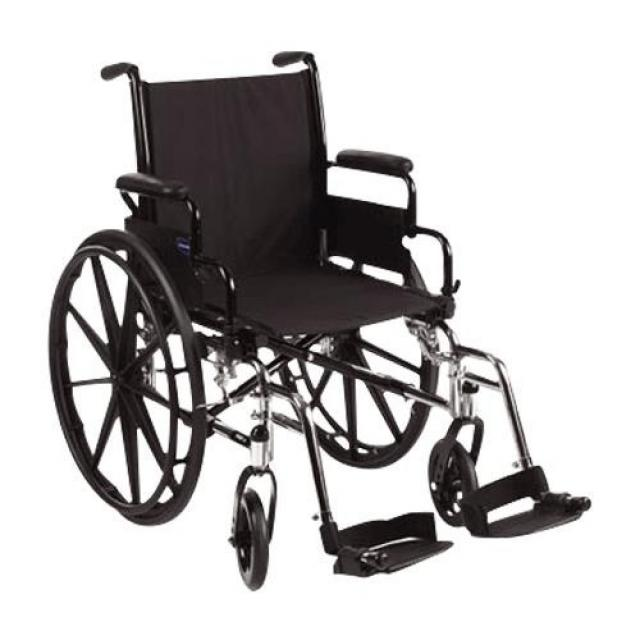wheelchair: (41, 31, 594, 596)
